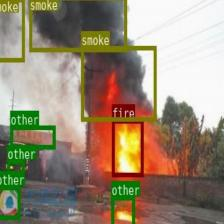fire: (111, 119, 142, 176)
smoke: (80, 46, 156, 121), (29, 0, 126, 51), (0, 0, 24, 61)
